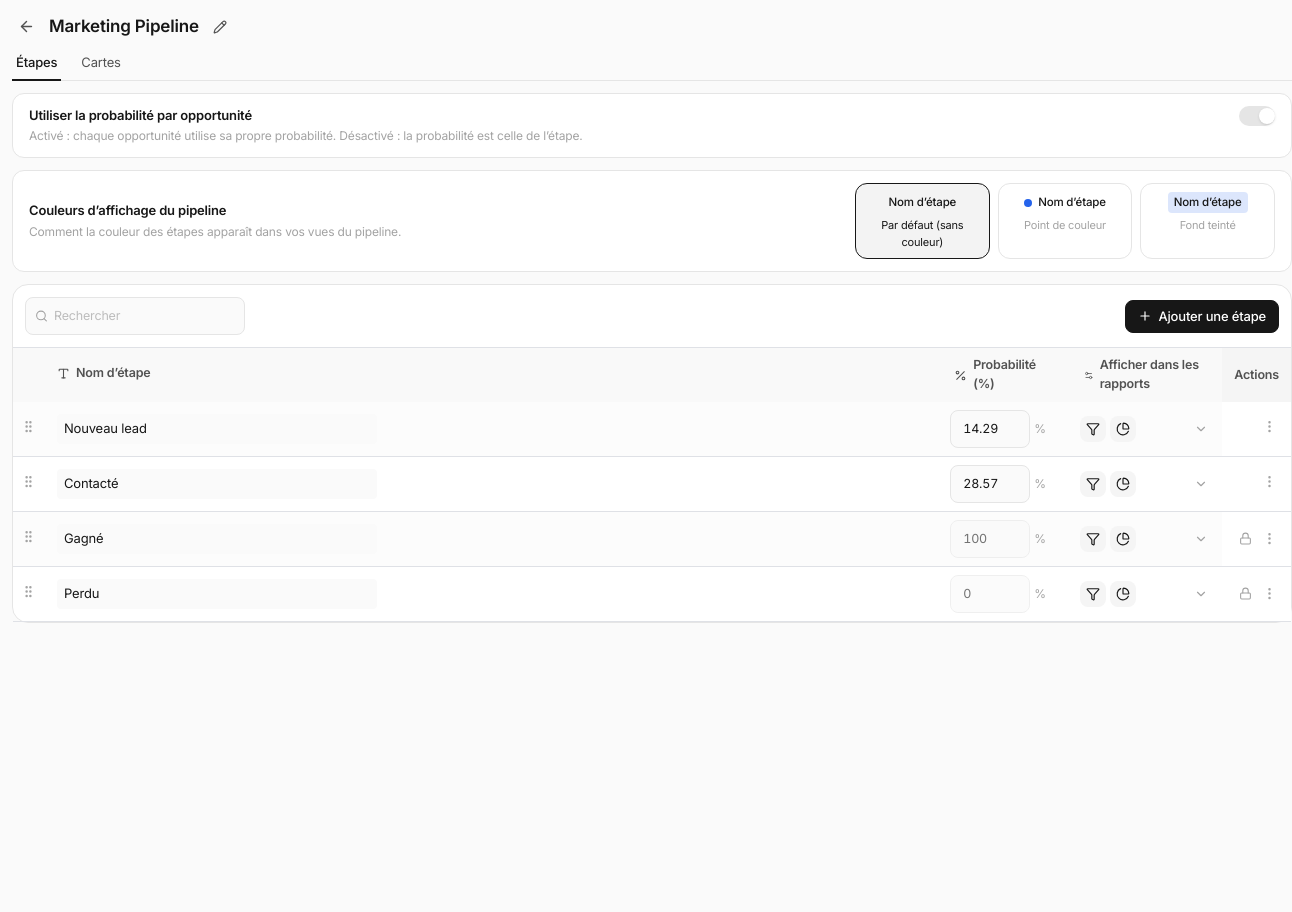
Test: page détail d’un pipeline › Gagné et Perdu : cadenas, suppression désactivée
This screenshot has width=1292, height=912.
expect the number of icons named "Verrouillée" is 2: met, box [1239, 532, 1252, 545]; [1239, 587, 1252, 600]
Click the button named "Actions pour l’étape Gagné" at {"x": 1270, "y": 539}, box [1256, 525, 1283, 552]
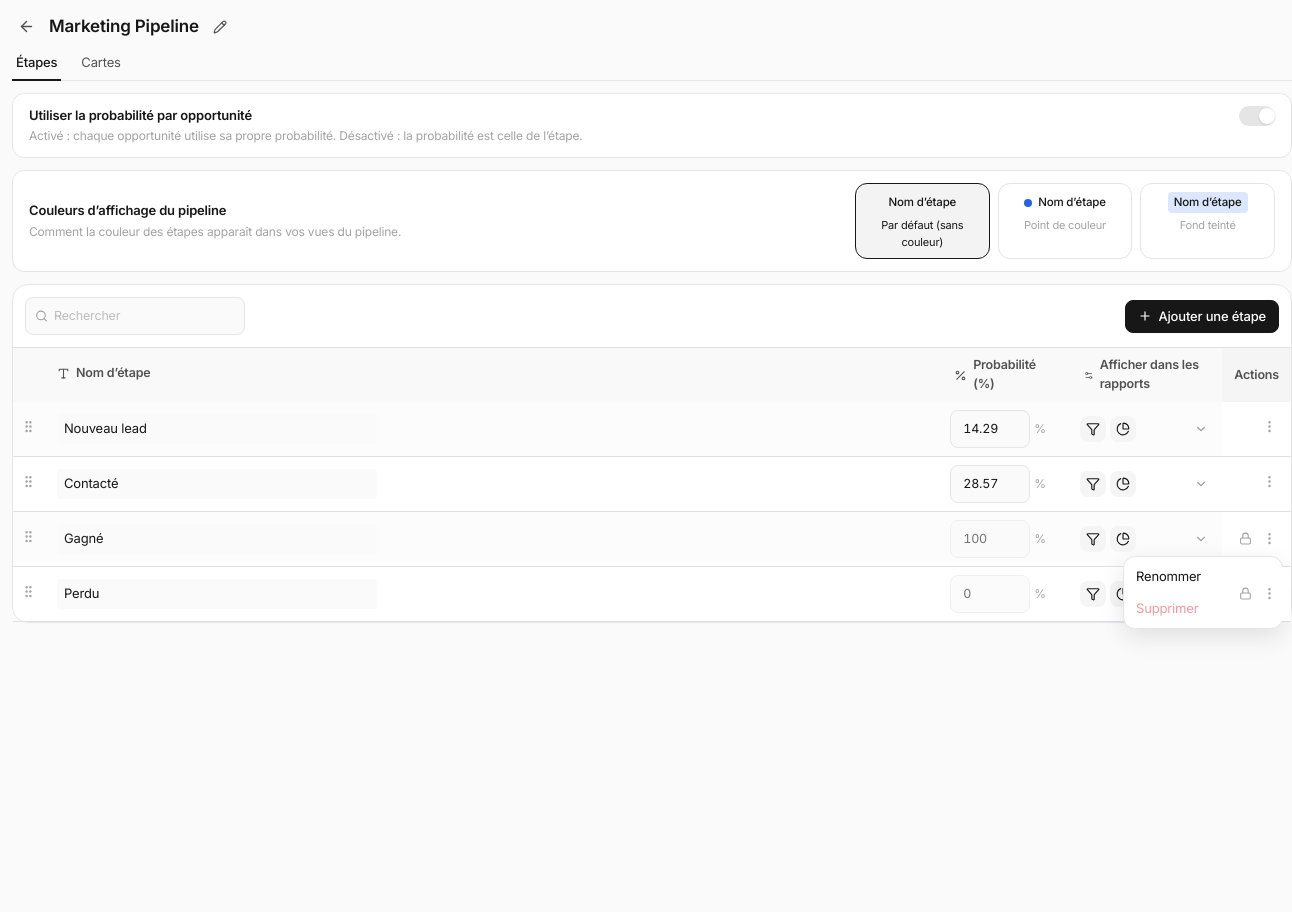
expect the menu item "Supprimer" is disabled: met, box [1124, 593, 1282, 624]
